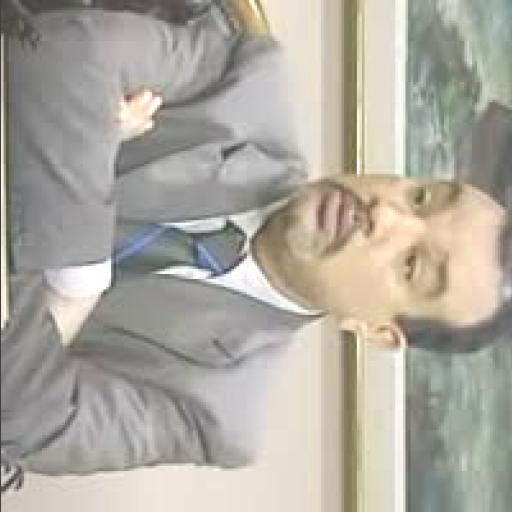slimane: (274, 177, 512, 353)
